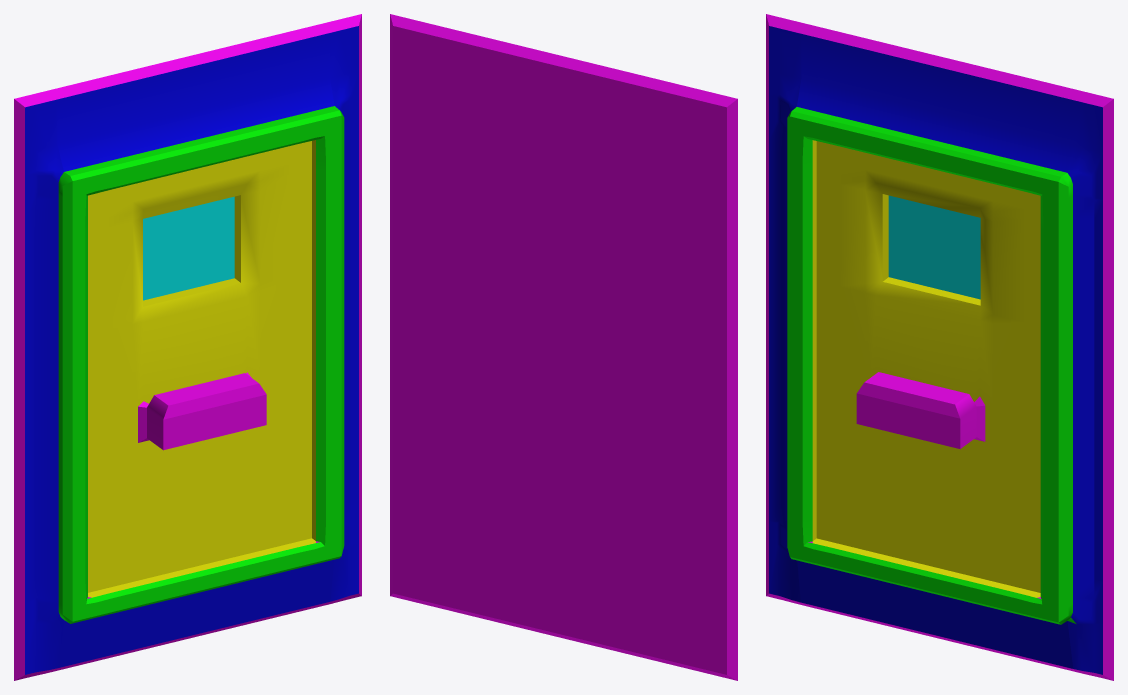
The model's file is Door.fbx.
The picture shows the model from 3 angles, left to right: view 1: azimuth 30°, elevation 25°; view 2: azimuth 150°, elevation 25°; view 3: azimuth 330°, elevation 25°; orthographic projection.
Parts seen in each view (by area): view 1: Door; view 2: Door; view 3: Door.
Part boxes in pixels (x1,y1,x2,y2): Door: [14, 14, 361, 680]; Door: [390, 14, 737, 680]; Door: [766, 14, 1113, 680].
Size of the model in its own units: 5 by 8 by 0.8296.
